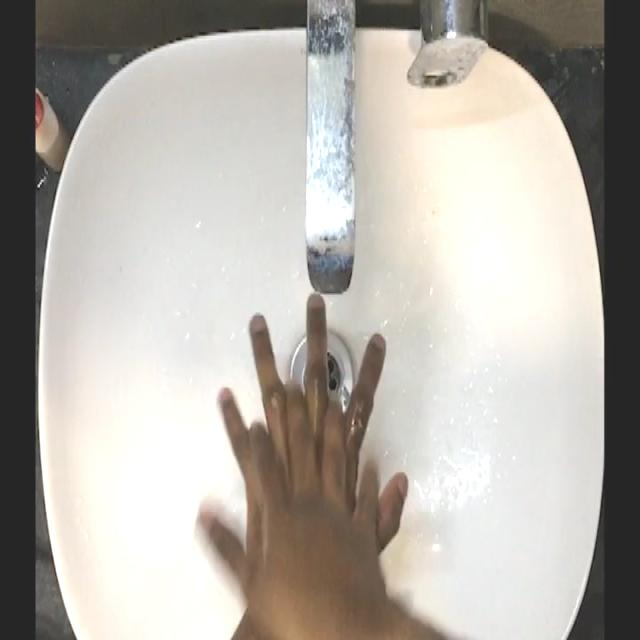step_2: (196, 283, 408, 600)
